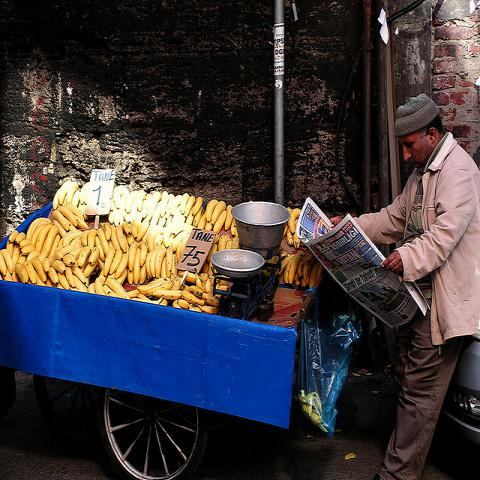car: (436, 318, 480, 446)
